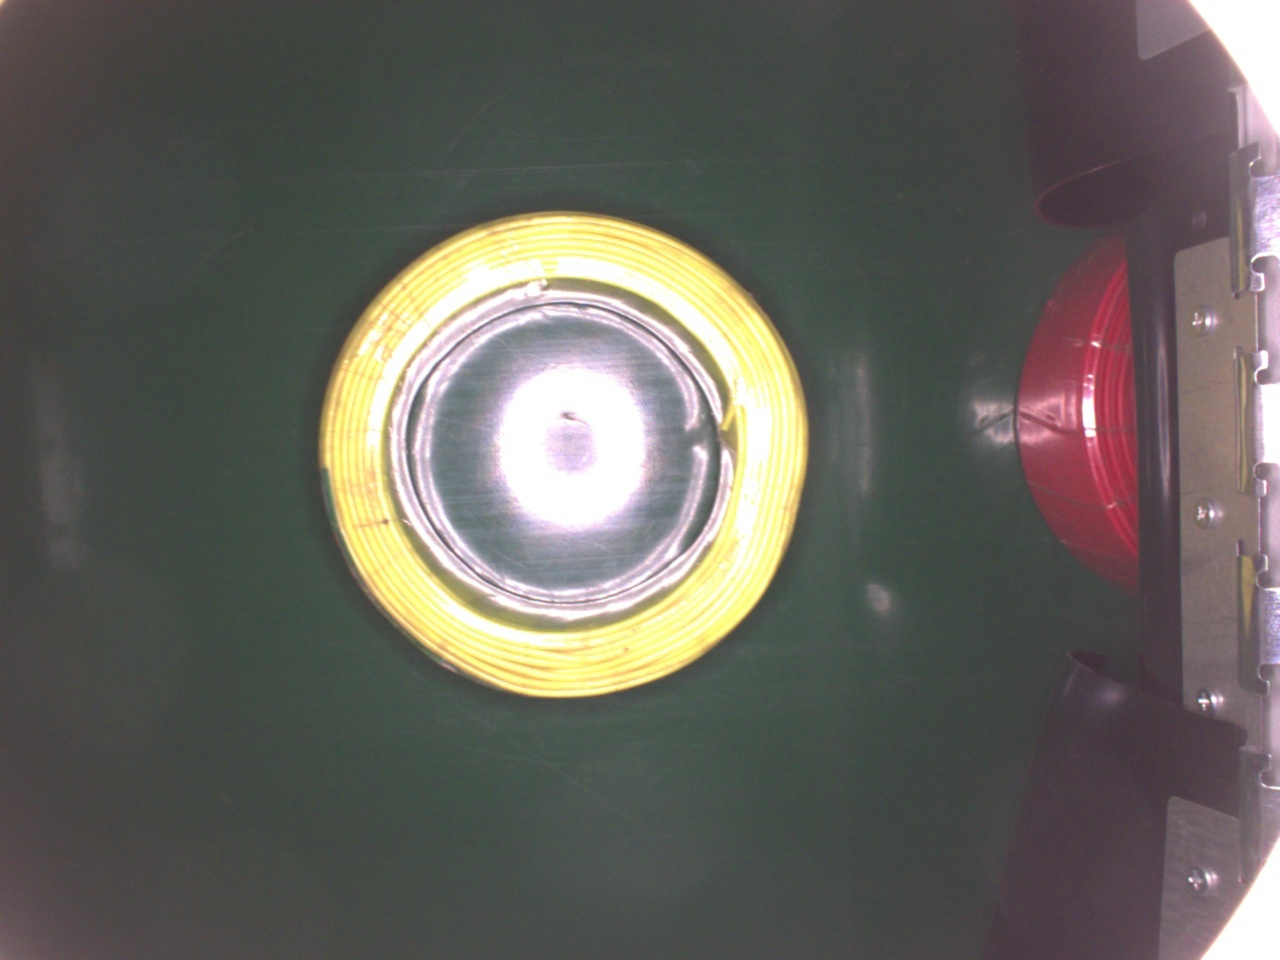yellow: (319, 204, 805, 692)
